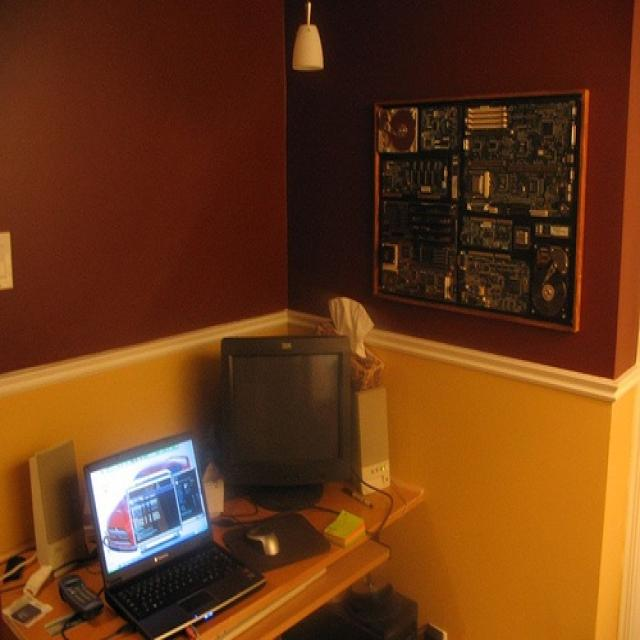tvmonitor: (219, 331, 354, 509)
